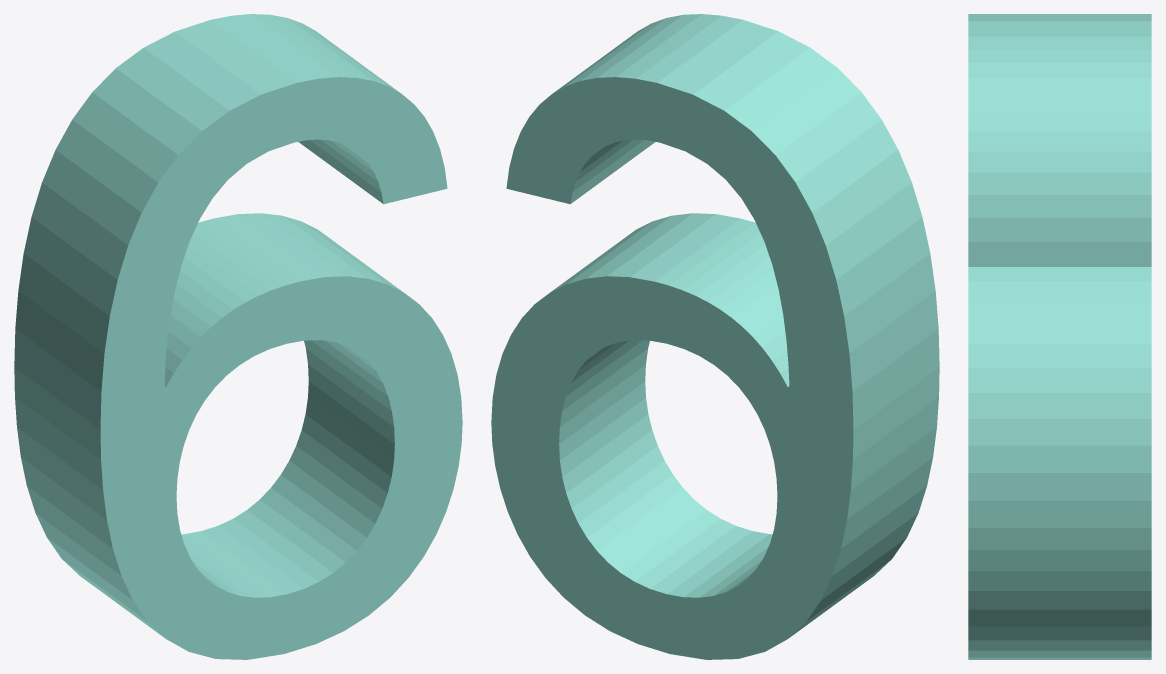
The picture shows the model from 3 angles, left to right: view 1: azimuth 30°, elevation 25°; view 2: azimuth 150°, elevation 25°; view 3: azimuth 270°, elevation 25°; orthographic projection. The views are drawn at different scales.
Parts seen in each view (by area): view 1: 1.005; view 2: 1.005; view 3: 1.005.
Part boxes in pixels (left/top/right/bottom): 1.005: left=14, top=14, right=462, bottom=659; 1.005: left=491, top=14, right=939, bottom=659; 1.005: left=968, top=14, right=1151, bottom=659.
Size of the model in its own units: 41.25 by 61.84 by 17.
